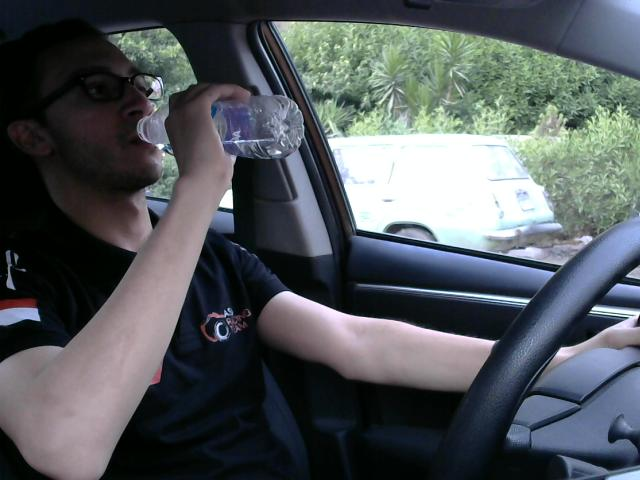Drinking: (125, 90, 310, 171)
